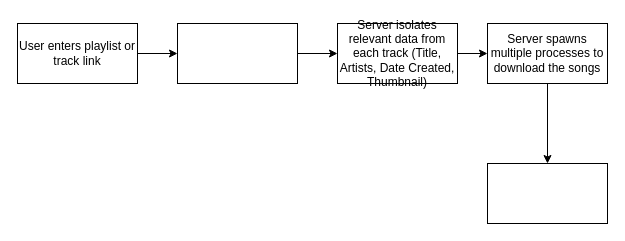
The diagram is 625 pixels wide and 241 high, and some of its shapes have lost their labels. The shapes that lost their labels are listed below. From the top down, each one's centre as x and y in pixels, then its label:
At (237,53): "Server fetches the track(s)".
At (547,193): "The server serves all the files as a zip file to the user".
